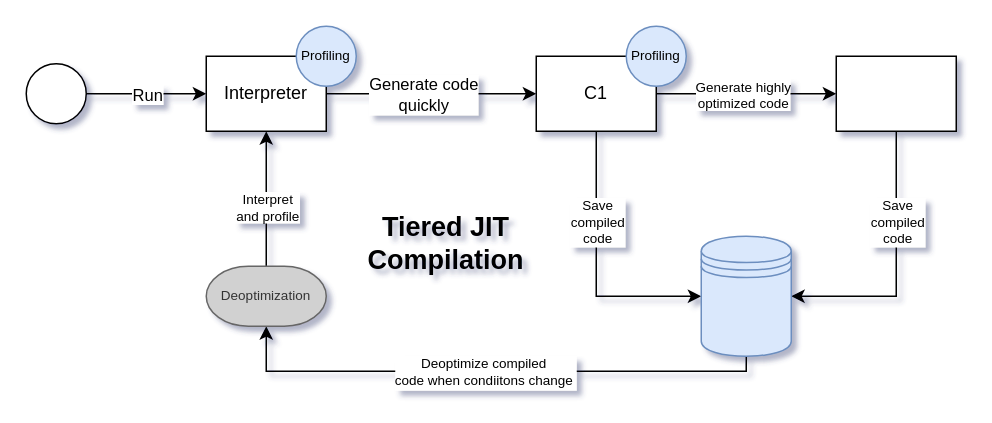
Some shapes in this 992 by 423 pixel diagram are drawn without their labels. The shapes that lost their labels are listed below. From the top down, each one's centre as x and y in pixels, then its label:
At pixel 895 93: "C2".
At pixel 745 295: "Code Cache".
